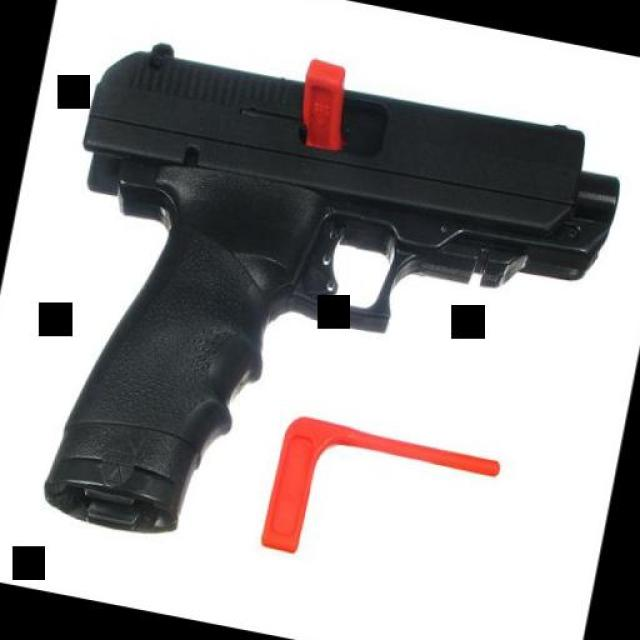gun: (8, 33, 628, 615)
